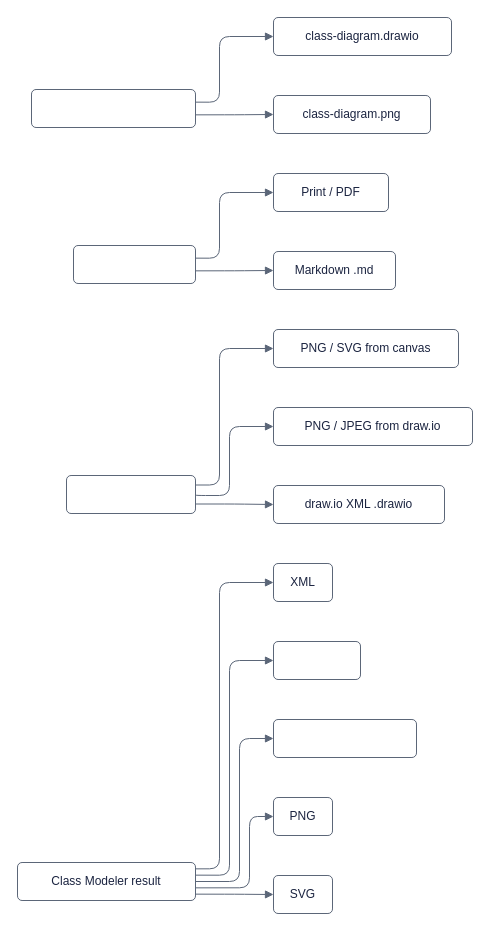
Image size: 490x931. Some labels were removed from this diagram. Each missing label, with the centre of its shape:
".drawio" belongs at point 316,660.
"Save to project" belongs at point 344,738.
"Saved Diagram" belongs at point 131,494.
"SRS Document" belongs at point 134,264.
"XML stage of a run" belongs at point 113,108.
